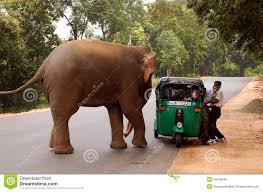tuk tuk: (155, 77, 206, 147)
